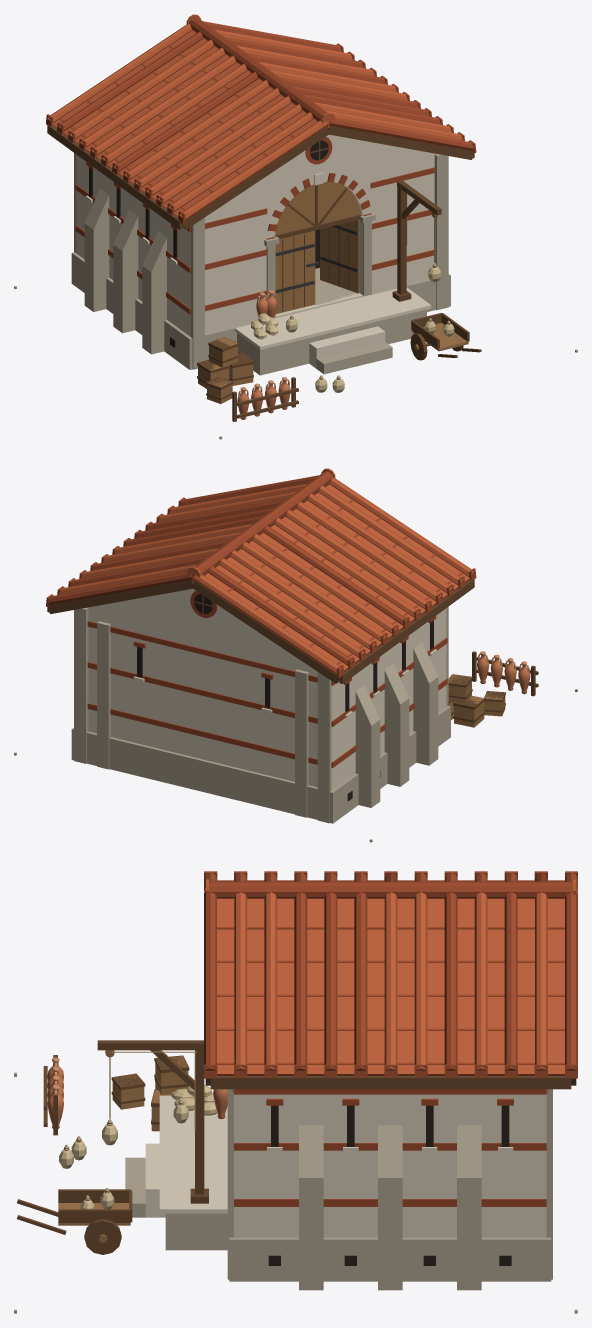
The model's file is Lager.fbx.
3 renders of one model, top to bottom at view 1: azimuth 30°, elevation 25°; view 2: azimuth 150°, elevation 25°; view 3: azimuth 270°, elevation 25°, orthographic. The views are drawn at different scales.
Parts seen in each view (by area): view 1: Lager; view 2: Lager; view 3: Lager.
Boxes of the visible parts, box(x1,y1,x2,y2) form: Lager: box(14, 14, 577, 439); Lager: box(14, 468, 577, 842); Lager: box(14, 871, 577, 1313).
Size of the model in its own units: 3.64 by 2.25 by 3.64.
